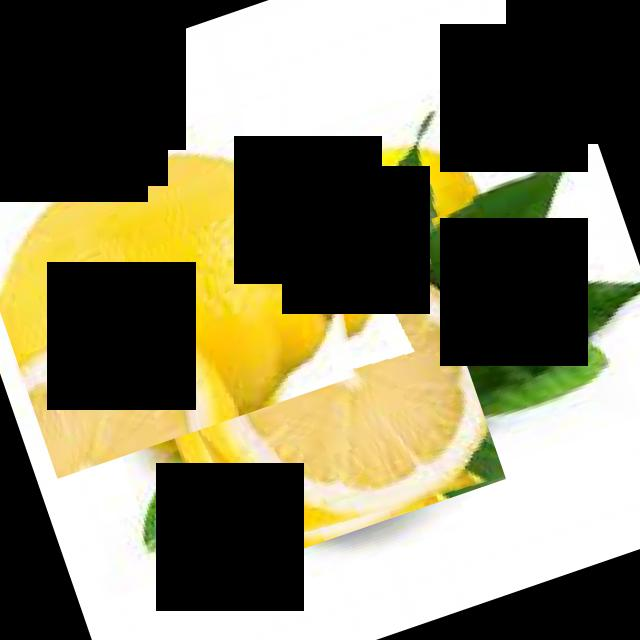lemon: (0, 85, 395, 478), (126, 198, 506, 576), (318, 116, 474, 246)
